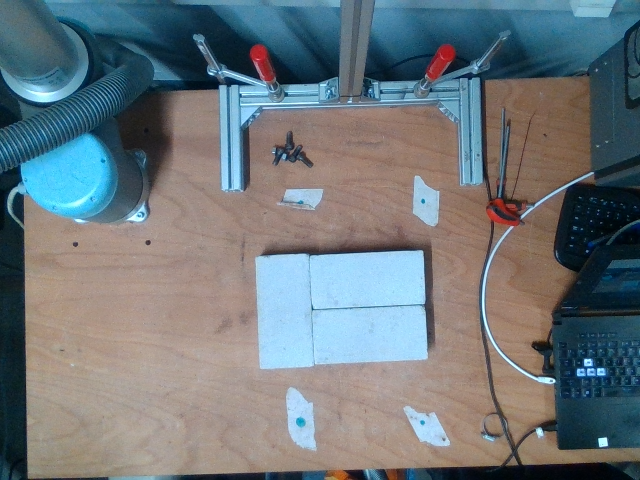brick: (311, 250, 425, 307), (313, 307, 427, 363), (257, 255, 312, 368)
